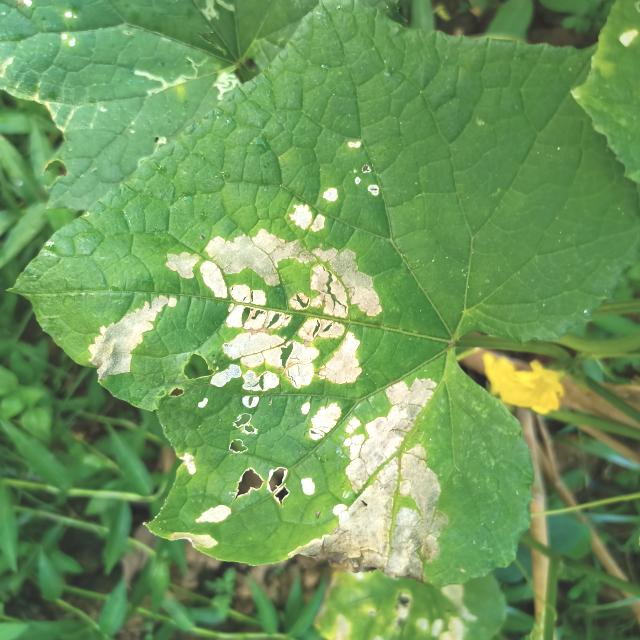disease_cucumber: (75, 139, 388, 394), (160, 371, 446, 593)
